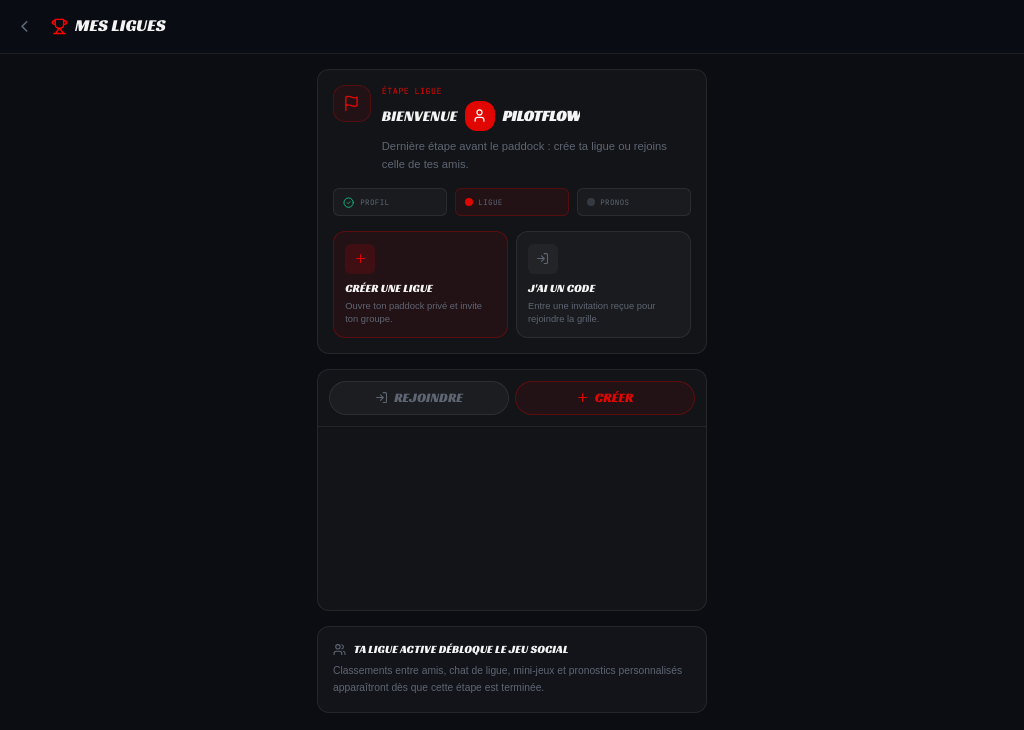
it: LeaguePage onboarding › switches from create to join through the visual onboarding choice
Click the button with test id "league-onboarding-join". click: point(603, 285)
box: 516,231 -> 691,338
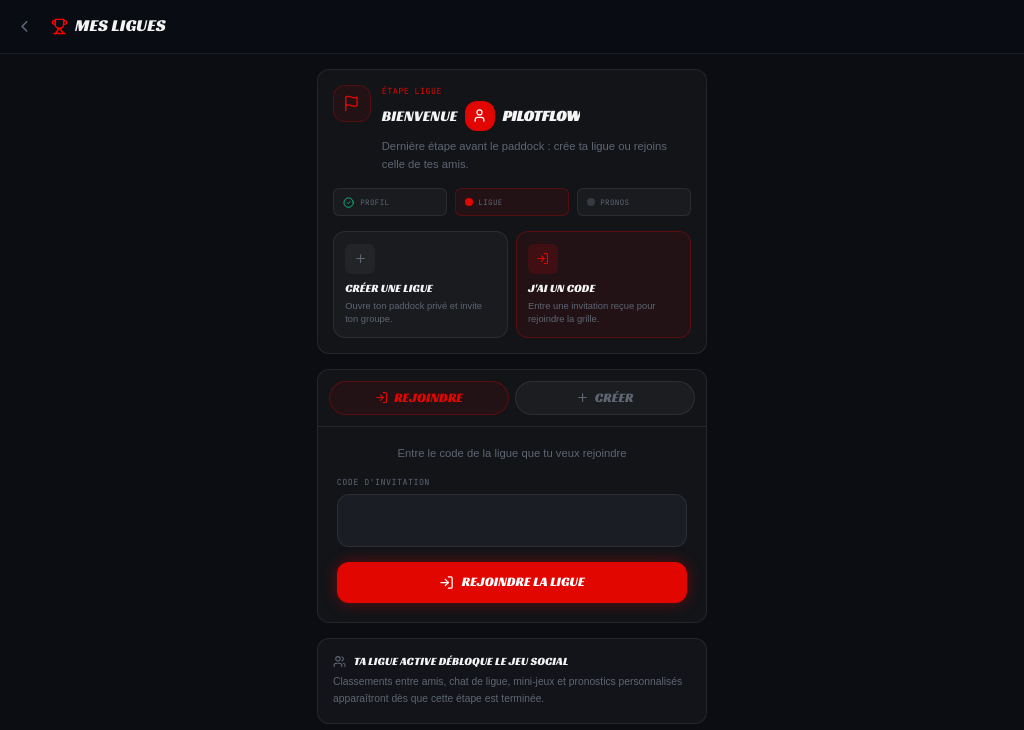
Expected: the field with test id "join-code-input" is shown, 337,494 -> 687,547
